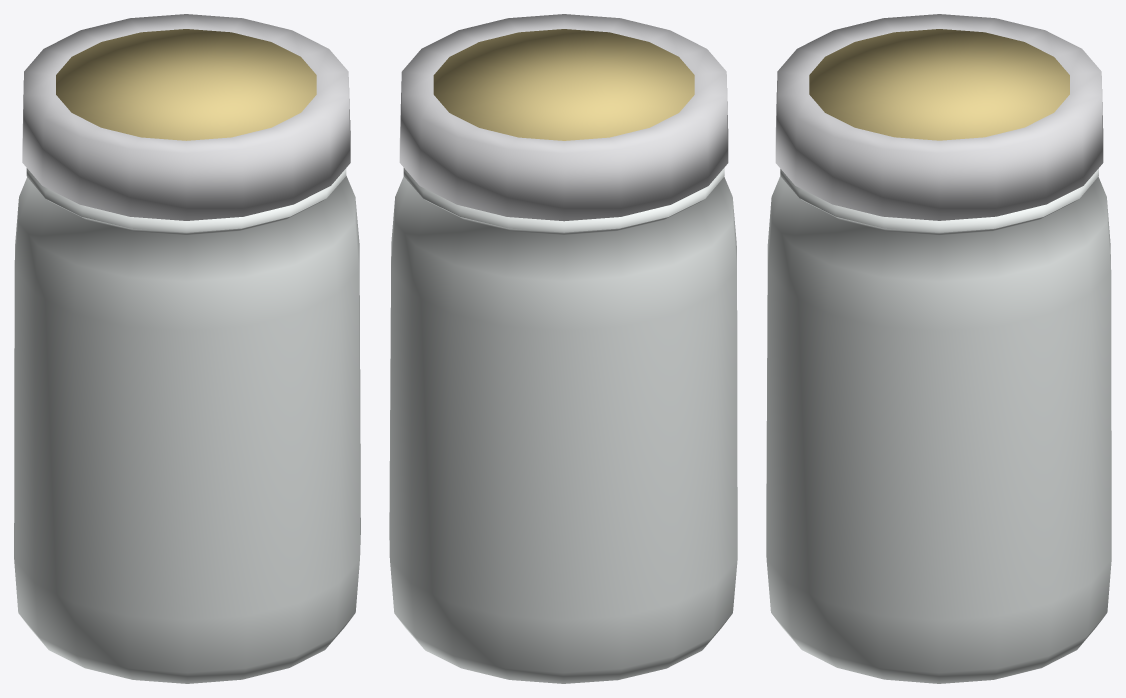
Rendered from bottle_mason_lod2.glb.
The picture shows the model from 3 angles, left to right: view 1: azimuth 30°, elevation 25°; view 2: azimuth 150°, elevation 25°; view 3: azimuth 270°, elevation 25°; orthographic projection.
Visible parts, largest first — view 1: Glass, Cap; view 2: Glass, Cap; view 3: Glass, Cap.
Part boxes in pixels (<box>): Glass: <box>14,168,360,683</box>; Cap: <box>22,14,350,220</box>; Glass: <box>389,168,737,683</box>; Cap: <box>399,14,728,221</box>; Glass: <box>766,168,1111,683</box>; Cap: <box>775,14,1103,220</box>.
Bounding box in the file's own units: 0.0779 × 0.1311 × 0.0763.
